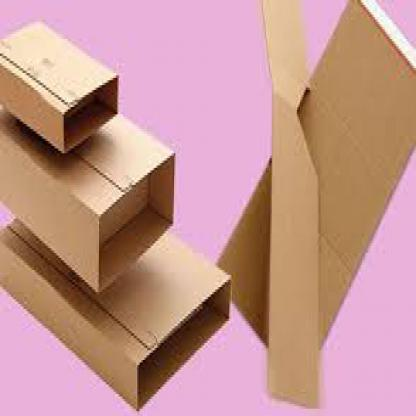CARDBOARD: (212, 0, 415, 360), (0, 214, 229, 414), (0, 102, 174, 292), (262, 0, 321, 407), (0, 17, 118, 152)
